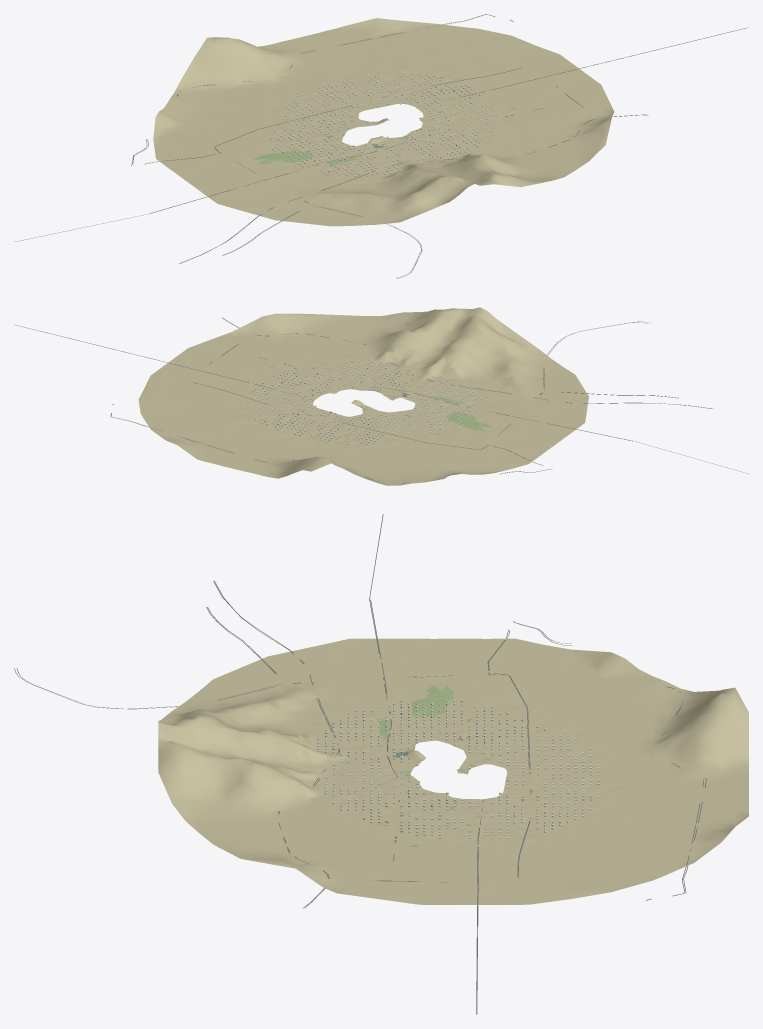
File: backdrop.glb
3 renders of one model, top to bottom at view 1: azimuth 30°, elevation 25°; view 2: azimuth 150°, elevation 25°; view 3: azimuth 270°, elevation 25°, orthographic. The views are drawn at different scales.
Parts seen in each view (by area): view 1: backdrop_terrain_scrub, backdrop_vista_building_local_wall_a, backdrop_road, backdrop_terrain_grass; view 2: backdrop_terrain_scrub, backdrop_vista_building_local_wall_a, backdrop_road, backdrop_terrain_grass; view 3: backdrop_terrain_scrub, backdrop_vista_building_local_wall_a, backdrop_road, backdrop_terrain_grass.
Part boxes in pixels (left/top/right/bottom): backdrop_terrain_scrub: left=153, top=18, right=614, bottom=226; backdrop_vista_building_local_wall_a: left=270, top=72, right=496, bottom=176; backdrop_road: left=15, top=14, right=748, bottom=278; backdrop_terrain_grass: left=254, top=86, right=516, bottom=166; backdrop_terrain_scrub: left=138, top=307, right=588, bottom=485; backdrop_vista_building_local_wall_a: left=246, top=360, right=481, bottom=444; backdrop_road: left=14, top=317, right=748, bottom=484; backdrop_terrain_grass: left=261, top=365, right=491, bottom=430; backdrop_terrain_scrub: left=158, top=638, right=748, bottom=904; backdrop_vista_building_local_wall_a: left=317, top=700, right=599, bottom=838; backdrop_road: left=14, top=514, right=706, bottom=1014; backdrop_terrain_grass: left=376, top=685, right=519, bottom=846.
Size of what is drawn, in the model's own units: 17299 by 623 by 10701.
